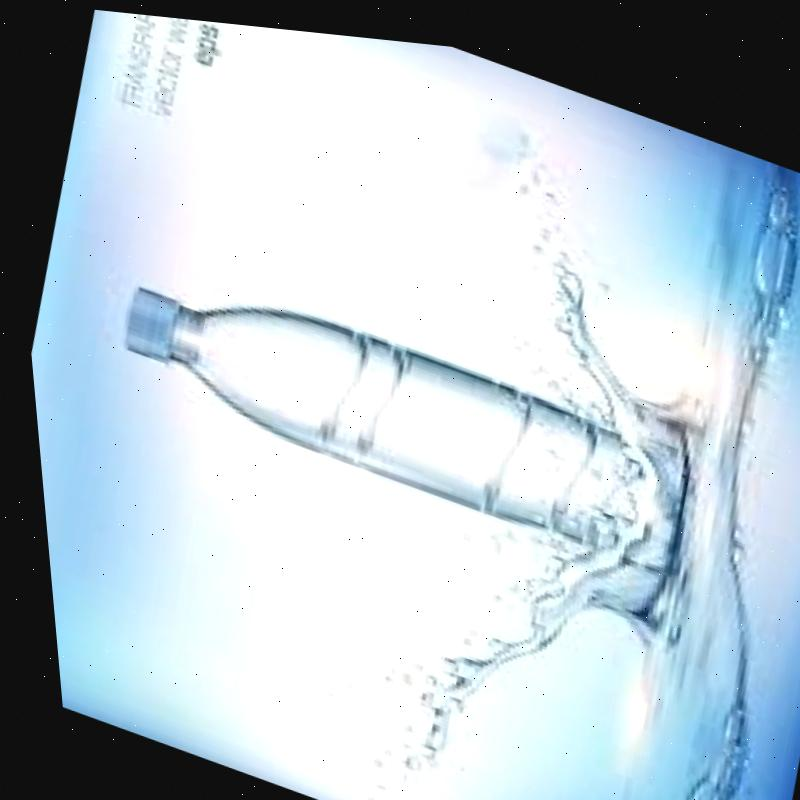botella: (98, 243, 669, 553)
